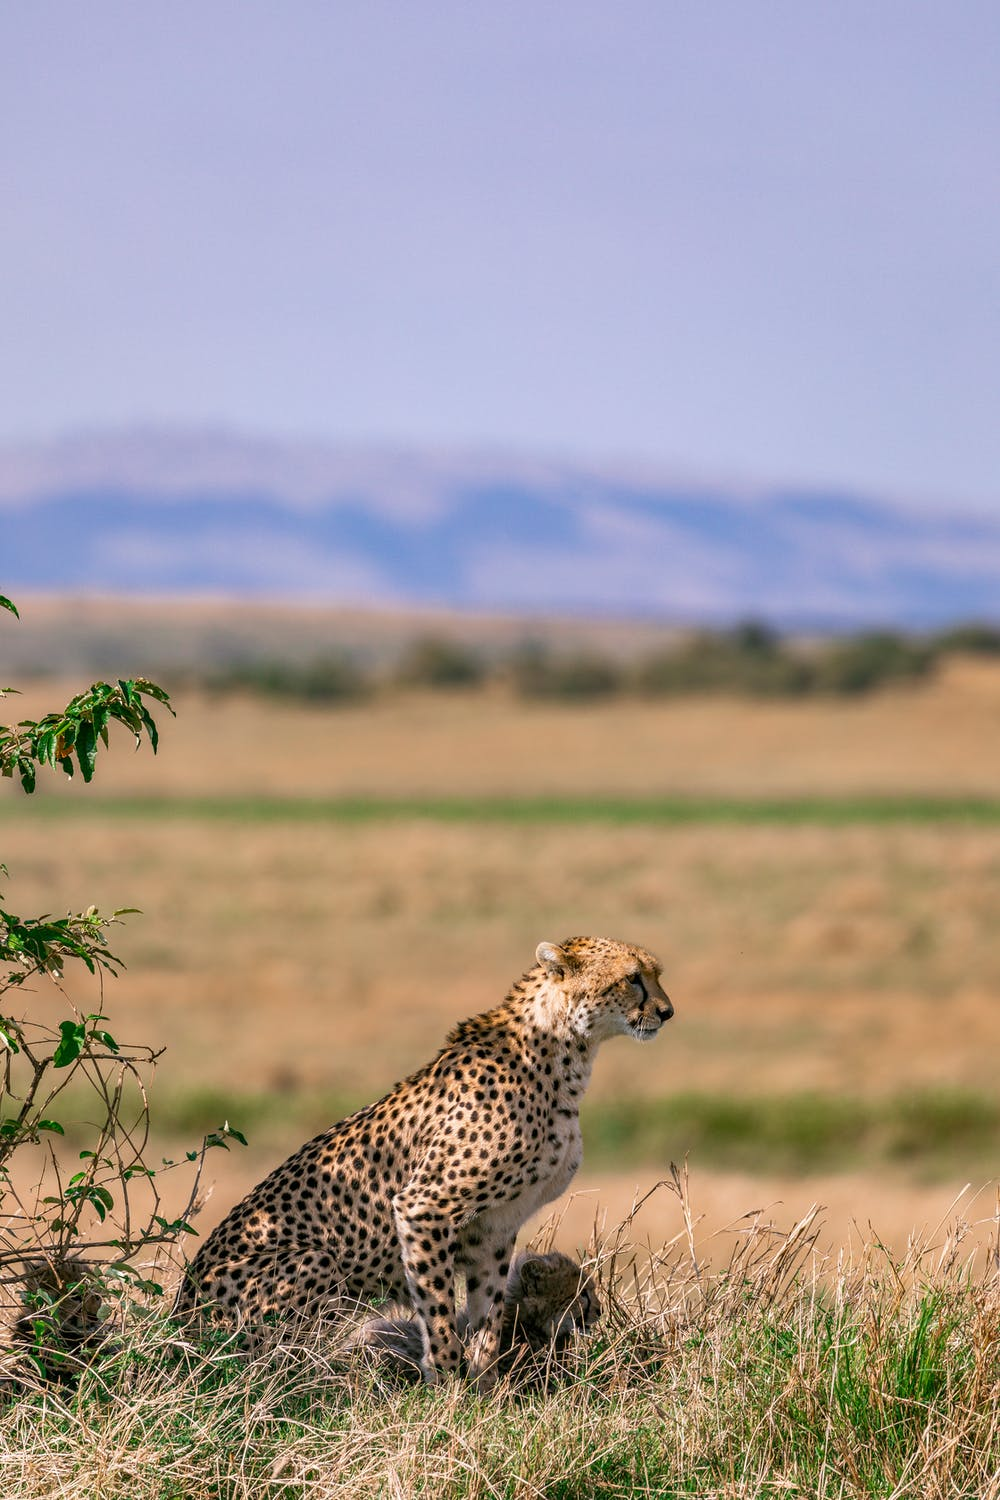cheetah: (494, 907, 687, 1069)
